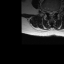CCS_normal: (50, 10, 52, 17)
LFS_normal: (54, 8, 56, 14)
LLS_normal: (52, 9, 54, 16)
RFS_normal: (46, 8, 48, 14)
RLS_normal: (48, 10, 50, 15)
